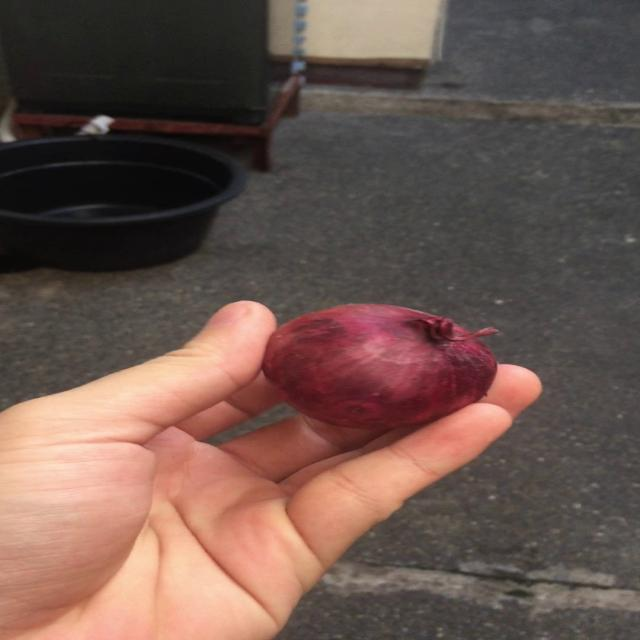Onion: (261, 304, 499, 429)
